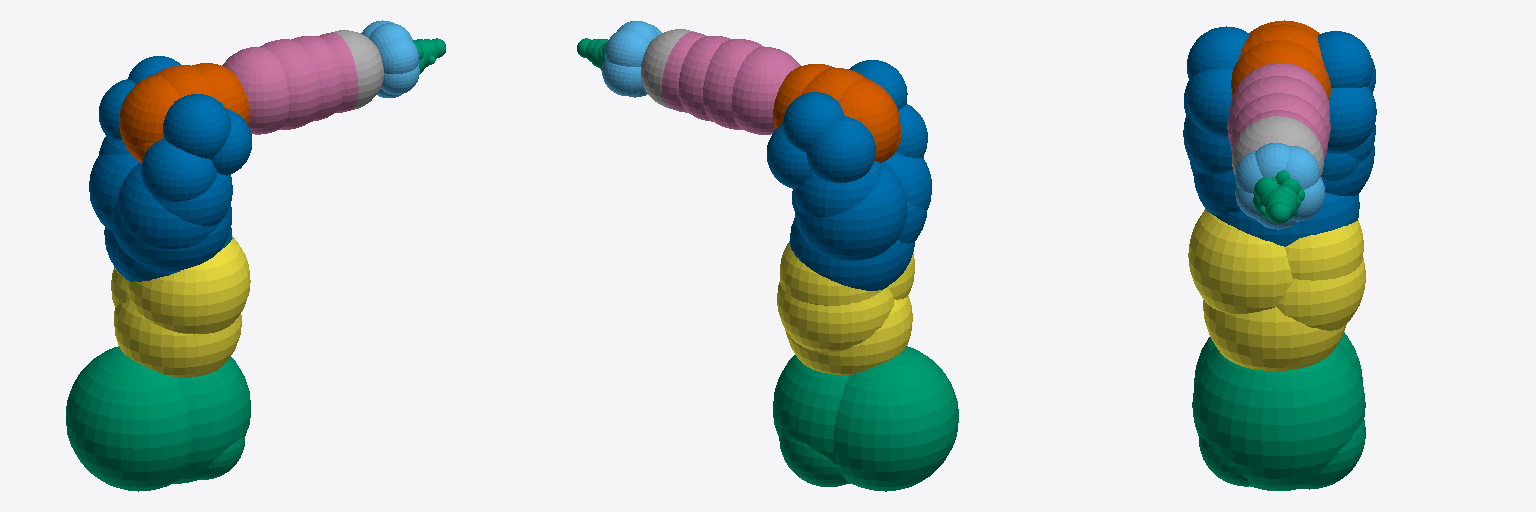
--- Render facts (derived) ---
3 views of the same robot in one strip: view 1: azimuth 30°, elevation 25°; view 2: azimuth 150°, elevation 25°; view 3: azimuth 270°, elevation 25° (orthographic).
Model Yaskawa_gp4 with 12 links and 11 joints (6 revolute, 5 fixed), rooted at world, posed all joints at 0.
Links seen in each view (by area): view 1: link_2, base_link, link_1, link_4, link_3, fts, link_5, link_tool; view 2: link_2, base_link, link_1, link_4, link_3, fts, link_5, link_tool; view 3: link_1, base_link, link_2, link_4, fts, link_3, link_5, link_tool.
Link boxes in pixels (x1,y1,x2,y2): link_2: (89,56,251,281); base_link: (66,346,250,491); link_1: (111,236,250,377); link_4: (222,32,358,134); link_3: (119,63,249,163); fts: (361,20,419,97); link_5: (334,30,383,109); link_tool: (413,38,445,73); link_2: (767,60,931,290); base_link: (773,346,958,491); link_1: (777,241,914,374); link_4: (662,32,800,134); link_3: (773,64,900,162); fts: (602,21,661,97); link_5: (641,29,693,108); link_tool: (577,38,607,70); link_1: (1188,209,1365,370); base_link: (1192,332,1365,490); link_2: (1183,26,1376,246); link_4: (1227,63,1330,159); fts: (1235,143,1324,229); link_3: (1231,20,1330,99); link_5: (1232,116,1323,176); link_tool: (1253,170,1304,223).
Size in the robot's own frame: 0.688 by 0.2732 by 0.7222 metres.
Geometry: primitives only (box / cylinder / sphere), no mesh files.

robot.urdf — Yaskawa_gp4:
<?xml version='1.0' encoding='utf-8'?>
<robot name="Yaskawa_gp4" path="../assets/gp4_lego/gp4.urdf">
	<link name="world" />
	<link name="base" />
	<link name="base_link">
		<inertial>
			<origin xyz="-0.073983 0.00022734 0.13031" rpy="0 0 0" />
			<mass value="42.212" />
			<inertia ixx="0.64296" ixy="0.0012624" ixz="-0.068804" iyy="1.2709" iyz="-0.0010754" izz="1.3497" />
		</inertial>
		<collision>
			<geometry>
				<sphere radius="0.119671" />
			</geometry>
			<origin xyz="-0.07575601915097237 -0.0008230218069553376 0.07777994463970823" rpy="0 0 0" />
		</collision>
		<collision>
			<geometry>
				<sphere radius="0.122461" />
			</geometry>
			<origin xyz="-0.009094019150972368 -0.0002290218069553375 0.07862394463970823" rpy="0 0 0" />
		</collision>
		<collision>
			<geometry>
				<sphere radius="0.08014" />
			</geometry>
			<origin xyz="0.0027869808490276343 0.04260197819304466 0.04064294463970824" rpy="0 0 0" />
		</collision>
		<collision>
			<geometry>
				<sphere radius="0.067458" />
			</geometry>
			<origin xyz="0.016629980849027635 -0.04618602180695534 0.03765994463970824" rpy="0 0 0" />
		</collision>
	<visual name="base_link_visual_1">
			<geometry>
				<sphere radius="0.119671" />
			</geometry>
			<origin xyz="-0.07575601915097237 -0.0008230218069553376 0.07777994463970823" rpy="0 0 0" />
		</visual>
		<visual name="base_link_visual_2">
			<geometry>
				<sphere radius="0.122461" />
			</geometry>
			<origin xyz="-0.009094019150972368 -0.0002290218069553375 0.07862394463970823" rpy="0 0 0" />
		</visual>
		<visual name="base_link_visual_3">
			<geometry>
				<sphere radius="0.08014" />
			</geometry>
			<origin xyz="0.0027869808490276343 0.04260197819304466 0.04064294463970824" rpy="0 0 0" />
		</visual>
		<visual name="base_link_visual_4">
			<geometry>
				<sphere radius="0.067458" />
			</geometry>
			<origin xyz="0.016629980849027635 -0.04618602180695534 0.03765994463970824" rpy="0 0 0" />
		</visual>
	</link>
	<link name="link_1">
		<inertial>
			<origin xyz="0.058962 0.24363 -0.018725" rpy="0 0 0" />
			<mass value="37.265" />
			<inertia ixx="0.95018" ixy="-0.14402" ixz="-0.064915" iyy="1.0578" iyz="0.037699" izz="1.094" />
		</inertial>
		<collision>
			<geometry>
				<sphere radius="0.103487" />
			</geometry>
			<origin xyz="-0.006680012403726577 -0.00405895157122612 -0.09518498797893524" rpy="0 0 0" />
		</collision>
		<collision>
			<geometry>
				<sphere radius="0.096502" />
			</geometry>
			<origin xyz="-0.0022830124037265774 0.02624304842877388 -0.04820498797893524" rpy="0 0 0" />
		</collision>
		<collision>
			<geometry>
				<sphere radius="0.100372" />
			</geometry>
			<origin xyz="-0.000928012403726578 -0.02788495157122612 -0.015095987978935244" rpy="0 0 0" />
		</collision>
		<collision>
			<geometry>
				<sphere radius="0.090185" />
			</geometry>
			<origin xyz="-0.0018940124037265778 0.02974404842877388 -0.0007889879789352433" rpy="0 0 0" />
		</collision>
	<visual name="link_1_visual_1">
			<geometry>
				<sphere radius="0.103487" />
			</geometry>
			<origin xyz="-0.006680012403726577 -0.00405895157122612 -0.09518498797893524" rpy="0 0 0" />
		</visual>
		<visual name="link_1_visual_2">
			<geometry>
				<sphere radius="0.096502" />
			</geometry>
			<origin xyz="-0.0022830124037265774 0.02624304842877388 -0.04820498797893524" rpy="0 0 0" />
		</visual>
		<visual name="link_1_visual_3">
			<geometry>
				<sphere radius="0.100372" />
			</geometry>
			<origin xyz="-0.000928012403726578 -0.02788495157122612 -0.015095987978935244" rpy="0 0 0" />
		</visual>
		<visual name="link_1_visual_4">
			<geometry>
				<sphere radius="0.090185" />
			</geometry>
			<origin xyz="-0.0018940124037265778 0.02974404842877388 -0.0007889879789352433" rpy="0 0 0" />
		</visual>
	</link>
	<link name="link_2">
		<inertial>
			<origin xyz="3.5083E-05 0.39008 0.15036" rpy="0 0 0" />
			<mass value="22.632" />
			<inertia ixx="1.7745" ixy="-0.0054743" ixz="0.00063015" iyy="0.15511" iyz="-0.09224" izz="1.826" />
		</inertial>
		<collision>
			<geometry>
				<sphere radius="0.09793" />
			</geometry>
			<origin xyz="-0.029720542814776534 -0.023862420774672922 0.10512294650002602" rpy="0 0 0" />
		</collision>
		<collision>
			<geometry>
				<sphere radius="0.091307" />
			</geometry>
			<origin xyz="-0.03905554281477654 0.04388957922532708 0.129623946500026" rpy="0 0 0" />
		</collision>
		<collision>
			<geometry>
				<sphere radius="0.061789" />
			</geometry>
			<origin xyz="-0.008863542814776536 0.05901957922532708 0.146398946500026" rpy="0 0 0" />
		</collision>
		<collision>
			<geometry>
				<sphere radius="0.088217" />
			</geometry>
			<origin xyz="-0.03972254281477654 -0.03973442077467292 0.130174946500026" rpy="0 0 0" />
		</collision>
		<collision>
			<geometry>
				<sphere radius="0.095999" />
			</geometry>
			<origin xyz="-0.020234542814776536 0.01789657922532708 0.05338594650002601" rpy="0 0 0" />
		</collision>
		<collision>
			<geometry>
				<sphere radius="0.088623" />
			</geometry>
			<origin xyz="-0.0030135428147765354 0.02176557922532708 0.0008929465000260123" rpy="0 0 0" />
		</collision>
		<collision>
			<geometry>
				<sphere radius="0.098809" />
			</geometry>
			<origin xyz="-0.018074542814776537 -0.0025994207746729203 0.05415094650002601" rpy="0 0 0" />
		</collision>
		<collision>
			<geometry>
				<sphere radius="0.088389" />
			</geometry>
			<origin xyz="-0.003957542814776536 0.00091857922532708 -0.002976053499973999" rpy="0 0 0" />
		</collision>
		<collision>
			<geometry>
				<sphere radius="0.079826" />
			</geometry>
			<origin xyz="-0.026058542814776535 -0.05560342077467292 0.162718946500026" rpy="0 0 0" />
		</collision>
		<collision>
			<geometry>
				<sphere radius="0.062428" />
			</geometry>
			<origin xyz="-0.042745542814776535 -0.07226342077467293 0.205902946500026" rpy="0 0 0" />
		</collision>
		<collision>
			<geometry>
				<sphere radius="0.055841" />
			</geometry>
			<origin xyz="0.026478457185223465 -0.07517142077467293 0.24198194650002602" rpy="0 0 0" />
		</collision>
		<collision>
			<geometry>
				<sphere radius="0.056388" />
			</geometry>
			<origin xyz="-0.010712542814776536 -0.07403242077467292 0.274466946500026" rpy="0 0 0" />
		</collision>
		<collision>
			<geometry>
				<sphere radius="0.076935" />
			</geometry>
			<origin xyz="-0.028701542814776534 0.05970057922532708 0.167062946500026" rpy="0 0 0" />
		</collision>
		<collision>
			<geometry>
				<sphere radius="0.058835" />
			</geometry>
			<origin xyz="0.029858457185223466 0.07896457922532707 0.222125946500026" rpy="0 0 0" />
		</collision>
		<collision>
			<geometry>
				<sphere radius="0.057534" />
			</geometry>
			<origin xyz="-0.039346542814776536 0.07962557922532709 0.244992946500026" rpy="0 0 0" />
		</collision>
		<collision>
			<geometry>
				<sphere radius="0.05257" />
			</geometry>
			<origin xyz="0.0063094571852234625 0.08002757922532708 0.279773946500026" rpy="0 0 0" />
		</collision>
	<visual name="link_2_visual_1">
			<geometry>
				<sphere radius="0.09793" />
			</geometry>
			<origin xyz="-0.029720542814776534 -0.023862420774672922 0.10512294650002602" rpy="0 0 0" />
		</visual>
		<visual name="link_2_visual_2">
			<geometry>
				<sphere radius="0.091307" />
			</geometry>
			<origin xyz="-0.03905554281477654 0.04388957922532708 0.129623946500026" rpy="0 0 0" />
		</visual>
		<visual name="link_2_visual_3">
			<geometry>
				<sphere radius="0.061789" />
			</geometry>
			<origin xyz="-0.008863542814776536 0.05901957922532708 0.146398946500026" rpy="0 0 0" />
		</visual>
		<visual name="link_2_visual_4">
			<geometry>
				<sphere radius="0.088217" />
			</geometry>
			<origin xyz="-0.03972254281477654 -0.03973442077467292 0.130174946500026" rpy="0 0 0" />
		</visual>
		<visual name="link_2_visual_5">
			<geometry>
				<sphere radius="0.095999" />
			</geometry>
			<origin xyz="-0.020234542814776536 0.01789657922532708 0.05338594650002601" rpy="0 0 0" />
		</visual>
		<visual name="link_2_visual_6">
			<geometry>
				<sphere radius="0.088623" />
			</geometry>
			<origin xyz="-0.0030135428147765354 0.02176557922532708 0.0008929465000260123" rpy="0 0 0" />
		</visual>
		<visual name="link_2_visual_7">
			<geometry>
				<sphere radius="0.098809" />
			</geometry>
			<origin xyz="-0.018074542814776537 -0.0025994207746729203 0.05415094650002601" rpy="0 0 0" />
		</visual>
		<visual name="link_2_visual_8">
			<geometry>
				<sphere radius="0.088389" />
			</geometry>
			<origin xyz="-0.003957542814776536 0.00091857922532708 -0.002976053499973999" rpy="0 0 0" />
		</visual>
		<visual name="link_2_visual_9">
			<geometry>
				<sphere radius="0.079826" />
			</geometry>
			<origin xyz="-0.026058542814776535 -0.05560342077467292 0.162718946500026" rpy="0 0 0" />
		</visual>
		<visual name="link_2_visual_10">
			<geometry>
				<sphere radius="0.062428" />
			</geometry>
			<origin xyz="-0.042745542814776535 -0.07226342077467293 0.205902946500026" rpy="0 0 0" />
		</visual>
		<visual name="link_2_visual_11">
			<geometry>
				<sphere radius="0.055841" />
			</geometry>
			<origin xyz="0.026478457185223465 -0.07517142077467293 0.24198194650002602" rpy="0 0 0" />
		</visual>
		<visual name="link_2_visual_12">
			<geometry>
				<sphere radius="0.056388" />
			</geometry>
			<origin xyz="-0.010712542814776536 -0.07403242077467292 0.274466946500026" rpy="0 0 0" />
		</visual>
		<visual name="link_2_visual_13">
			<geometry>
				<sphere radius="0.076935" />
			</geometry>
			<origin xyz="-0.028701542814776534 0.05970057922532708 0.167062946500026" rpy="0 0 0" />
		</visual>
		<visual name="link_2_visual_14">
			<geometry>
				<sphere radius="0.058835" />
			</geometry>
			<origin xyz="0.029858457185223466 0.07896457922532707 0.222125946500026" rpy="0 0 0" />
		</visual>
		<visual name="link_2_visual_15">
			<geometry>
				<sphere radius="0.057534" />
			</geometry>
			<origin xyz="-0.039346542814776536 0.07962557922532709 0.244992946500026" rpy="0 0 0" />
		</visual>
		<visual name="link_2_visual_16">
			<geometry>
				<sphere radius="0.05257" />
			</geometry>
			<origin xyz="0.0063094571852234625 0.08002757922532708 0.279773946500026" rpy="0 0 0" />
		</visual>
	</link>
	<link name="link_3">
		<inertial>
			<origin xyz="0.086423 0.14427 -0.035793" rpy="0 0 0" />
			<mass value="28.467" />
			<inertia ixx="0.65771" ixy="-0.13627" ixz="-0.026219" iyy="0.52683" iyz="0.051956" izz="0.69722" />
		</inertial>
		<collision>
			<geometry>
				<sphere radius="0.078334" />
			</geometry>
			<origin xyz="-0.019412976109266282 0.00740209885430336 -0.004424969627380371" rpy="0 0 0" />
		</collision>
		<collision>
			<geometry>
				<sphere radius="0.082448" />
			</geometry>
			<origin xyz="0.01119302389073372 0.00649809885430336 -0.000790969627380371" rpy="0 0 0" />
		</collision>
		<collision>
			<geometry>
				<sphere radius="0.072948" />
			</geometry>
			<origin xyz="0.05006602389073372 0.0017370988543033601 0.006009030372619629" rpy="0 0 0" />
		</collision>
		<collision>
			<geometry>
				<sphere radius="0.052807" />
			</geometry>
			<origin xyz="-0.03822397610926628 -0.014118901145696638 -0.02360596962738037" rpy="0 0 0" />
		</collision>
	<visual name="link_3_visual_1">
			<geometry>
				<sphere radius="0.078334" />
			</geometry>
			<origin xyz="-0.019412976109266282 0.00740209885430336 -0.004424969627380371" rpy="0 0 0" />
		</visual>
		<visual name="link_3_visual_2">
			<geometry>
				<sphere radius="0.082448" />
			</geometry>
			<origin xyz="0.01119302389073372 0.00649809885430336 -0.000790969627380371" rpy="0 0 0" />
		</visual>
		<visual name="link_3_visual_3">
			<geometry>
				<sphere radius="0.072948" />
			</geometry>
			<origin xyz="0.05006602389073372 0.0017370988543033601 0.006009030372619629" rpy="0 0 0" />
		</visual>
		<visual name="link_3_visual_4">
			<geometry>
				<sphere radius="0.052807" />
			</geometry>
			<origin xyz="-0.03822397610926628 -0.014118901145696638 -0.02360596962738037" rpy="0 0 0" />
		</visual>
	</link>
	<link name="link_4">
		<inertial>
			<origin xyz="0.37337 0.00033491 0.012656" rpy="0 0 0" />
			<mass value="7.629" />
			<inertia ixx="0.018151" ixy="-0.00033527" ixz="-0.031589" iyy="0.48072" iyz="3.3917E-05" izz="0.47647" />
		</inertial>
		<collision>
			<geometry>
				<sphere radius="0.070971" />
			</geometry>
			<origin xyz="-0.14405002021551133 0.0012611188665628433 0.00023096638298034664" rpy="0 0 0" />
		</collision>
		<collision>
			<geometry>
				<sphere radius="0.073196" />
			</geometry>
			<origin xyz="-0.09581802021551132 -9.088113343715663e-05 0.0001579663829803467" rpy="0 0 0" />
		</collision>
		<collision>
			<geometry>
				<sphere radius="0.069293" />
			</geometry>
			<origin xyz="-0.05042802021551132 0.0003211188665628433 -0.00012603361701965326" rpy="0 0 0" />
		</collision>
		<collision>
			<geometry>
				<sphere radius="0.065365" />
			</geometry>
			<origin xyz="-0.0019150202155113205 -0.0009398811334371568 -0.0003610336170196532" rpy="0 0 0" />
		</collision>
	<visual name="link_4_visual_1">
			<geometry>
				<sphere radius="0.070971" />
			</geometry>
			<origin xyz="-0.14405002021551133 0.0012611188665628433 0.00023096638298034664" rpy="0 0 0" />
		</visual>
		<visual name="link_4_visual_2">
			<geometry>
				<sphere radius="0.073196" />
			</geometry>
			<origin xyz="-0.09581802021551132 -9.088113343715663e-05 0.0001579663829803467" rpy="0 0 0" />
		</visual>
		<visual name="link_4_visual_3">
			<geometry>
				<sphere radius="0.069293" />
			</geometry>
			<origin xyz="-0.05042802021551132 0.0003211188665628433 -0.00012603361701965326" rpy="0 0 0" />
		</visual>
		<visual name="link_4_visual_4">
			<geometry>
				<sphere radius="0.065365" />
			</geometry>
			<origin xyz="-0.0019150202155113205 -0.0009398811334371568 -0.0003610336170196532" rpy="0 0 0" />
		</visual>
	</link>
	<link name="link_5">
		<inertial>
			<origin xyz="0.062818 3.3289E-05 0.0048991" rpy="0 0 0" />
			<mass value="2.5794" />
			<inertia ixx="0.015161" ixy="-2.4835E-06" ixz="0.0016647" iyy="0.021382" iyz="-2.248E-06" izz="0.013473" />
		</inertial>
		<collision>
			<geometry>
				<sphere radius="0.065188" />
			</geometry>
			<origin xyz="0.014196006263256074 -0.0016248214304447174 -9.637603759765764e-07" rpy="0 0 0" />
		</collision>
	<visual name="link_5_visual_1">
			<geometry>
				<sphere radius="0.065188" />
			</geometry>
			<origin xyz="0.014196006263256074 -0.0016248214304447174 -9.637603759765764e-07" rpy="0 0 0" />
		</visual>
	</link>
	<link name="link_6">
		<inertial>
			<origin xyz="0.00015982 -0.00063018 -0.008266" rpy="0 0 0" />
			<mass value="0.10811" />
			<inertia ixx="9.0129E-05" ixy="-1.0891E-08" ixz="9.1598E-09" iyy="9.2026E-05" iyz="-2.749E-07" izz="0.00017818" />
		</inertial>
		<collision>
			<geometry>
				<sphere radius="0.022972" />
			</geometry>
			<origin xyz="0.06725001335144043 -5.284726309776306e-05 -0.012774910593032837" rpy="0 0 0" />
		</collision>
		<collision>
			<geometry>
				<sphere radius="0.023049" />
			</geometry>
			<origin xyz="0.06725001335144043 -0.010521847263097763 0.0068190894069671635" rpy="0 0 0" />
		</collision>
		<collision>
			<geometry>
				<sphere radius="0.022052" />
			</geometry>
			<origin xyz="0.06726901335144043 0.011999152736902236 0.006232089406967163" rpy="0 0 0" />
		</collision>
	<visual name="link_6_visual_1">
			<geometry>
				<sphere radius="0.022972" />
			</geometry>
			<origin xyz="0.06725001335144043 -5.284726309776306e-05 -0.012774910593032837" rpy="0 0 0" />
		</visual>
		<visual name="link_6_visual_2">
			<geometry>
				<sphere radius="0.023049" />
			</geometry>
			<origin xyz="0.06725001335144043 -0.010521847263097763 0.0068190894069671635" rpy="0 0 0" />
		</visual>
		<visual name="link_6_visual_3">
			<geometry>
				<sphere radius="0.022052" />
			</geometry>
			<origin xyz="0.06726901335144043 0.011999152736902236 0.006232089406967163" rpy="0 0 0" />
		</visual>
	</link>
	<link name="fts">
		<collision>
			<geometry>
				<sphere radius="0.038064" />
			</geometry>
			<origin xyz="0.011877 -0.023867 0.000253" rpy="0 0 0" />
		</collision>
		<collision>
			<geometry>
				<sphere radius="0.040119" />
			</geometry>
			<origin xyz="0.024662 -0.001624 -1e-06" rpy="0 0 0" />
		</collision>
		<collision>
			<geometry>
				<sphere radius="0.039834" />
			</geometry>
			<origin xyz="-0.017862 0.017823 -0.000249" rpy="0 0 0" />
		</collision>
		<collision>
			<geometry>
				<sphere radius="0.038222" />
			</geometry>
			<origin xyz="-0.024336 -0.004839 0.0" rpy="0 0 0" />
		</collision>
		<collision>
			<geometry>
				<sphere radius="0.037769" />
			</geometry>
			<origin xyz="-0.0129 -0.024135 -0.000938" rpy="0 0 0" />
		</collision>
		<collision>
			<geometry>
				<sphere radius="0.041411" />
			</geometry>
			<origin xyz="0.011091 0.023734 -1e-06" rpy="0 0 0" />
		</collision>
		<inertial>
			<mass value="1e-5" />
			<origin xyz="0 0 0" rpy="0 0 0" />
			<inertia ixx="1e-6" ixy="0" ixz="0" iyy="1e-6" iyz="0" izz="1e-6" />
		</inertial>
	<visual name="fts_visual_1">
			<geometry>
				<sphere radius="0.038064" />
			</geometry>
			<origin xyz="0.011877 -0.023867 0.000253" rpy="0 0 0" />
		</visual>
		<visual name="fts_visual_2">
			<geometry>
				<sphere radius="0.040119" />
			</geometry>
			<origin xyz="0.024662 -0.001624 -1e-06" rpy="0 0 0" />
		</visual>
		<visual name="fts_visual_3">
			<geometry>
				<sphere radius="0.039834" />
			</geometry>
			<origin xyz="-0.017862 0.017823 -0.000249" rpy="0 0 0" />
		</visual>
		<visual name="fts_visual_4">
			<geometry>
				<sphere radius="0.038222" />
			</geometry>
			<origin xyz="-0.024336 -0.004839 0.0" rpy="0 0 0" />
		</visual>
		<visual name="fts_visual_5">
			<geometry>
				<sphere radius="0.037769" />
			</geometry>
			<origin xyz="-0.0129 -0.024135 -0.000938" rpy="0 0 0" />
		</visual>
		<visual name="fts_visual_6">
			<geometry>
				<sphere radius="0.041411" />
			</geometry>
			<origin xyz="0.011091 0.023734 -1e-06" rpy="0 0 0" />
		</visual>
		</link>
	<link name="link_tool">
		<inertial>
			<origin xyz="0 0 0" rpy="0 0 0" />
			<mass value="0.10811" />
			<inertia ixx="9.0129E-05" ixy="-1.0891E-08" ixz="9.1598E-09" iyy="9.2026E-05" iyz="-2.749E-07" izz="0.00017818" />
		</inertial>
		<collision>
			<geometry>
				<sphere radius="0.007566" />
			</geometry>
			<origin xyz="-0.00812526059785581 0.020722512432185928 0.041226901189082864" rpy="0 0 0" />
		</collision>
		<collision>
			<geometry>
				<sphere radius="0.015878" />
			</geometry>
			<origin xyz="-0.0014272605978558112 -0.000456487567814073 0.06422290118908286" rpy="0 0 0" />
		</collision>
		<collision>
			<geometry>
				<sphere radius="0.019951" />
			</geometry>
			<origin xyz="-0.0025242605978558113 0.00015551243218592706 0.045856901189082866" rpy="0 0 0" />
		</collision>
		<collision>
			<geometry>
				<sphere radius="0.023908" />
			</geometry>
			<origin xyz="-0.004176260597855811 1.8512432185927062e-05 0.03335690118908286" rpy="0 0 0" />
		</collision>
		<collision>
			<geometry>
				<sphere radius="0.02149" />
			</geometry>
			<origin xyz="-0.0032202605978558113 0.006482512432185927 0.02346890118908286" rpy="0 0 0" />
		</collision>
		<collision>
			<geometry>
				<sphere radius="0.019783" />
			</geometry>
			<origin xyz="0.009670739402144189 0.015605512432185928 0.007847901189082861" rpy="0 0 0" />
		</collision>
		<collision>
			<geometry>
				<sphere radius="0.021634" />
			</geometry>
			<origin xyz="-0.007474260597855811 0.015229512432185927 0.008738901189082864" rpy="0 0 0" />
		</collision>
		<collision>
			<geometry>
				<sphere radius="0.012498" />
			</geometry>
			<origin xyz="0.02037173940214419 0.007351512432185927 0.004500901189082862" rpy="0 0 0" />
		</collision>
		<collision>
			<geometry>
				<sphere radius="0.017566" />
			</geometry>
			<origin xyz="0.012428739402144189 -0.013928487567814073 0.007362901189082862" rpy="0 0 0" />
		</collision>
		<collision>
			<geometry>
				<sphere radius="0.019796" />
			</geometry>
			<origin xyz="0.000674739402144189 -0.006403487567814073 0.020150901189082863" rpy="0 0 0" />
		</collision>
		<collision>
			<geometry>
				<sphere radius="0.01449" />
			</geometry>
			<origin xyz="0.00021573940214418894 -0.023956487567814072 0.004920901189082866" rpy="0 0 0" />
		</collision>
		<collision>
			<geometry>
				<sphere radius="0.013901" />
			</geometry>
			<origin xyz="0.02613373940214419 -0.004951487567814073 0.003919901189082864" rpy="0 0 0" />
		</collision>
		<collision>
			<geometry>
				<sphere radius="0.027207" />
			</geometry>
			<origin xyz="-0.00999526059785581 0.001222512432185927 0.014604901189082864" rpy="0 0 0" />
		</collision>
		<collision>
			<geometry>
				<sphere radius="0.017205" />
			</geometry>
			<origin xyz="-0.01505326059785581 0.009620512432185927 0.0078119011890828635" rpy="0 0 0" />
		</collision>
		<collision>
			<geometry>
				<sphere radius="0.017734" />
			</geometry>
			<origin xyz="-0.016864260597855812 -0.011968487567814073 0.006466901189082861" rpy="0 0 0" />
		</collision>
		<collision>
			<geometry>
				<sphere radius="0.018122" />
			</geometry>
			<origin xyz="-0.005438260597855811 -0.015421487567814075 0.007465901189082861" rpy="0 0 0" />
		</collision>
	<visual name="link_tool_visual_1">
			<geometry>
				<sphere radius="0.007566" />
			</geometry>
			<origin xyz="-0.00812526059785581 0.020722512432185928 0.041226901189082864" rpy="0 0 0" />
		</visual>
		<visual name="link_tool_visual_2">
			<geometry>
				<sphere radius="0.015878" />
			</geometry>
			<origin xyz="-0.0014272605978558112 -0.000456487567814073 0.06422290118908286" rpy="0 0 0" />
		</visual>
		<visual name="link_tool_visual_3">
			<geometry>
				<sphere radius="0.019951" />
			</geometry>
			<origin xyz="-0.0025242605978558113 0.00015551243218592706 0.045856901189082866" rpy="0 0 0" />
		</visual>
		<visual name="link_tool_visual_4">
			<geometry>
				<sphere radius="0.023908" />
			</geometry>
			<origin xyz="-0.004176260597855811 1.8512432185927062e-05 0.03335690118908286" rpy="0 0 0" />
		</visual>
		<visual name="link_tool_visual_5">
			<geometry>
				<sphere radius="0.02149" />
			</geometry>
			<origin xyz="-0.0032202605978558113 0.006482512432185927 0.02346890118908286" rpy="0 0 0" />
		</visual>
		<visual name="link_tool_visual_6">
			<geometry>
				<sphere radius="0.019783" />
			</geometry>
			<origin xyz="0.009670739402144189 0.015605512432185928 0.007847901189082861" rpy="0 0 0" />
		</visual>
		<visual name="link_tool_visual_7">
			<geometry>
				<sphere radius="0.021634" />
			</geometry>
			<origin xyz="-0.007474260597855811 0.015229512432185927 0.008738901189082864" rpy="0 0 0" />
		</visual>
		<visual name="link_tool_visual_8">
			<geometry>
				<sphere radius="0.012498" />
			</geometry>
			<origin xyz="0.02037173940214419 0.007351512432185927 0.004500901189082862" rpy="0 0 0" />
		</visual>
		<visual name="link_tool_visual_9">
			<geometry>
				<sphere radius="0.017566" />
			</geometry>
			<origin xyz="0.012428739402144189 -0.013928487567814073 0.007362901189082862" rpy="0 0 0" />
		</visual>
		<visual name="link_tool_visual_10">
			<geometry>
				<sphere radius="0.019796" />
			</geometry>
			<origin xyz="0.000674739402144189 -0.006403487567814073 0.020150901189082863" rpy="0 0 0" />
		</visual>
		<visual name="link_tool_visual_11">
			<geometry>
				<sphere radius="0.01449" />
			</geometry>
			<origin xyz="0.00021573940214418894 -0.023956487567814072 0.004920901189082866" rpy="0 0 0" />
		</visual>
		<visual name="link_tool_visual_12">
			<geometry>
				<sphere radius="0.013901" />
			</geometry>
			<origin xyz="0.02613373940214419 -0.004951487567814073 0.003919901189082864" rpy="0 0 0" />
		</visual>
		<visual name="link_tool_visual_13">
			<geometry>
				<sphere radius="0.027207" />
			</geometry>
			<origin xyz="-0.00999526059785581 0.001222512432185927 0.014604901189082864" rpy="0 0 0" />
		</visual>
		<visual name="link_tool_visual_14">
			<geometry>
				<sphere radius="0.017205" />
			</geometry>
			<origin xyz="-0.01505326059785581 0.009620512432185927 0.0078119011890828635" rpy="0 0 0" />
		</visual>
		<visual name="link_tool_visual_15">
			<geometry>
				<sphere radius="0.017734" />
			</geometry>
			<origin xyz="-0.016864260597855812 -0.011968487567814073 0.006466901189082861" rpy="0 0 0" />
		</visual>
		<visual name="link_tool_visual_16">
			<geometry>
				<sphere radius="0.018122" />
			</geometry>
			<origin xyz="-0.005438260597855811 -0.015421487567814075 0.007465901189082861" rpy="0 0 0" />
		</visual>
	</link>
	<link name="flange" />
	<joint name="world_fixed" type="fixed">
		<parent link="world" />
		<child link="base" />
	</joint>
	<joint name="base_link-base" type="fixed">
		<origin xyz="0 0 0.0" rpy="0 0 0" />
		<parent link="base" />
		<child link="base_link" />
	</joint>
	<joint name="joint_1" type="revolute">
		<parent link="base_link" />
		<child link="link_1" />
		<origin xyz="0 0 0.330" rpy="0 0 0" />
		<axis xyz="0 0 1" />
		<limit effort="200" lower="-2.9670597283903604" upper="2.9670597283903604" velocity="2" />
	</joint>
	<joint name="joint_2" type="revolute">
		<parent link="link_1" />
		<child link="link_2" />
		<origin xyz="0 0 0" rpy="0 0 0" />
		<axis xyz="0 1 0" />
		<limit effort="200" lower="-1.9198621771937625" upper="2.2689280275926285" velocity="2" />
	</joint>
	<joint name="joint_3" type="revolute">
		<parent link="link_2" />
		<child link="link_3" />
		<origin xyz="0 0 0.260" rpy="0 0 0" />
		<axis xyz="0 -1 0" />
		<limit effort="200" lower="-1.1344640137963142" upper="3.490658503988659" velocity="2" />
	</joint>
	<joint name="joint_4" type="revolute">
		<parent link="link_3" />
		<child link="link_4" />
		<origin xyz="0.290 0 0.015" rpy="0 0 0" />
		<axis xyz="-1 0 0" />
		<limit effort="200" lower="-3.490658503988659" upper="3.490658503988659" velocity="2" />
	</joint>
	<joint name="joint_5" type="revolute">
		<parent link="link_4" />
		<child link="link_5" />
		<origin xyz="0 0 0" rpy="0 0 0" />
		<axis xyz="0 -1 0" />
		<limit effort="200" lower="-1.98968" upper="1.98968" velocity="2" />
	</joint>
	<joint name="joint_6" type="revolute">
		<parent link="link_5" />
		<child link="link_6" />
		<origin xyz="0 0 0" rpy="0 0 0" />
		<axis xyz="-1 0 0" />
		<limit effort="200" lower="-7.941248096574199" upper="7.941248096574199" velocity="2" />
	</joint>
	<joint name="joint_6_t-flange" type="fixed">
		<origin xyz="0.072 0 0" rpy="0 0 0" />
		<parent link="link_6" />
		<child link="flange" />
	</joint>
	<joint name="link_6_fts" type="fixed">
		<origin rpy="0 1.5707963267948966 0" xyz="0.02525 0 0" />
		<parent link="flange" />
		<child link="fts" />
	</joint>
	<joint name="fts_tool" type="fixed">
		<origin rpy="0 0 3.141592653589793" xyz="0 0 0.02525" />
		<parent link="fts" />
		<child link="link_tool" />
	</joint>
</robot>
